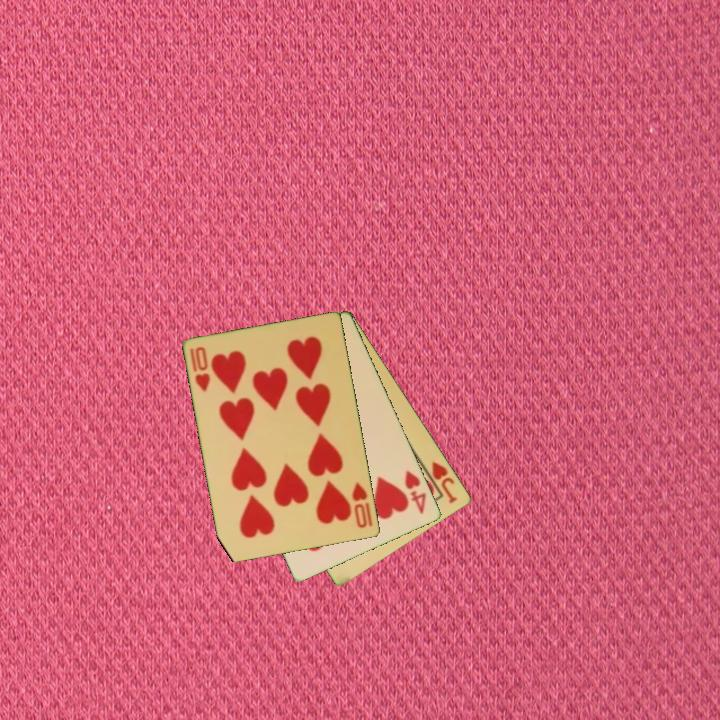10h: (349, 479, 376, 531), (187, 343, 213, 395)
4h: (401, 467, 430, 518)
Jh: (419, 458, 460, 507)
